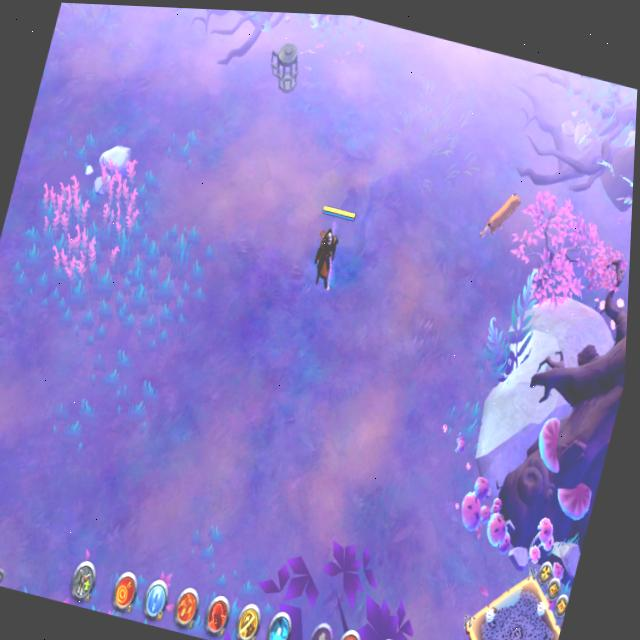ore: (473, 177, 529, 255)
red: (295, 192, 362, 301)
